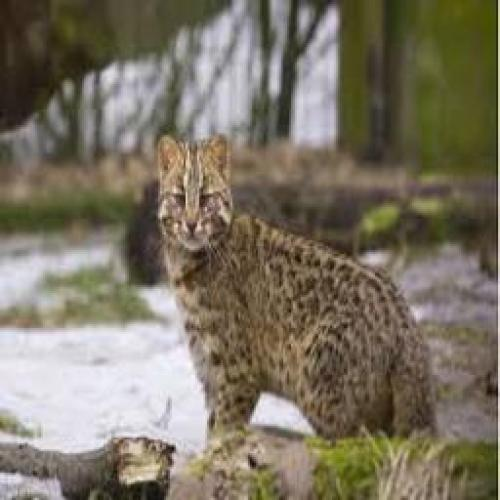amur_leopard-endangered: (153, 131, 440, 440)
